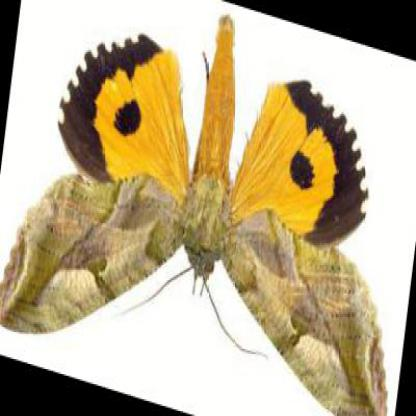fruit sucking moth: (3, 16, 389, 413)
